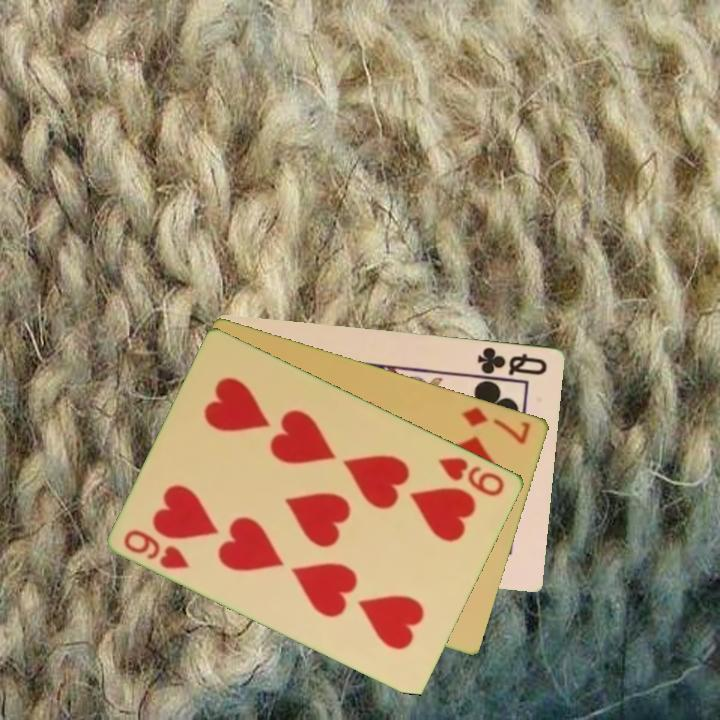7d: (459, 403, 534, 447)
9h: (435, 453, 508, 499), (121, 526, 193, 572)
Qc: (474, 343, 551, 378)
